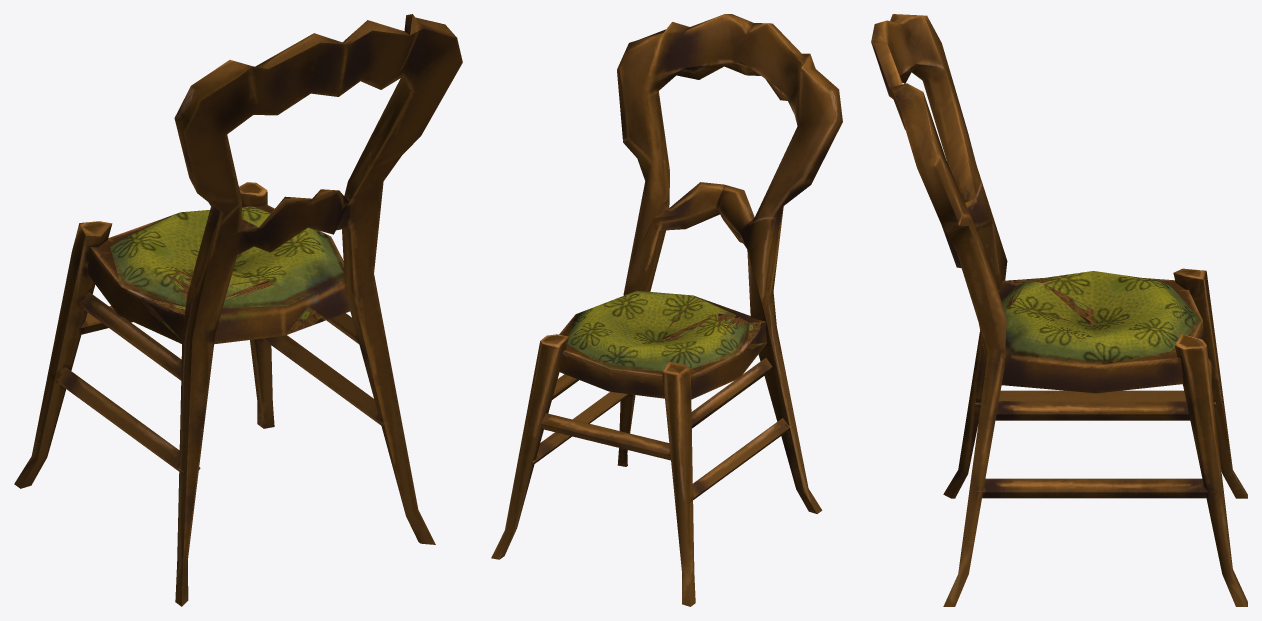
File: chaise_shatter.fbx
3 views of the same model, side by side, from view 1: azimuth 30°, elevation 25°; view 2: azimuth 150°, elevation 25°; view 3: azimuth 270°, elevation 25° (orthographic). The views are drawn at different scales.
Visible parts, largest first — view 1: Pieces_2_9, Pieces_1_8, Pieces_3_1, Pieces_1, Pieces_3_7, Pieces_2_7, Pieces_3_9, Pieces_3_3, Pieces_2_2, Pieces_3_5, Pieces_3_2, Pieces_1_6 (+5 smaller); view 2: Pieces_2_9, Pieces_3_7, Pieces_3_1, Pieces_2_7, Pieces_1, Pieces_1_8, Pieces_2_2, Pieces_2_8, Pieces_3_3, Pieces_3_5, Pieces_3_4, Pieces_3_2 (+4 smaller); view 3: Pieces_3_7, Pieces_2_9, Pieces_1_8, Pieces_1, Pieces_3_1, Pieces_2_7, Pieces_3_6, Pieces_3_9, Pieces_2_8, Pieces_3_5, Pieces_1_4, Pieces_2_2 (+6 smaller).
Part boxes in pixels (x1,y1,x2,y2): Pieces_2_9: [174, 14, 446, 252]; Pieces_1_8: [296, 23, 462, 355]; Pieces_3_1: [175, 224, 245, 606]; Pieces_1: [133, 268, 326, 472]; Pieces_3_7: [142, 204, 351, 319]; Pieces_2_7: [87, 226, 198, 321]; Pieces_3_9: [357, 336, 435, 544]; Pieces_3_3: [14, 348, 73, 488]; Pieces_2_2: [53, 221, 112, 348]; Pieces_3_5: [250, 338, 274, 428]; Pieces_3_2: [55, 367, 153, 431]; Pieces_1_6: [56, 273, 95, 360]; Pieces_2_9: [619, 14, 842, 265]; Pieces_3_7: [559, 291, 696, 391]; Pieces_3_1: [747, 222, 822, 513]; Pieces_2_7: [610, 327, 747, 399]; Pieces_1: [655, 296, 792, 459]; Pieces_1_8: [617, 24, 727, 295]; Pieces_2_2: [662, 361, 691, 487]; Pieces_2_8: [526, 334, 568, 437]; Pieces_3_3: [674, 474, 695, 606]; Pieces_3_5: [491, 438, 541, 559]; Pieces_3_4: [541, 413, 618, 443]; Pieces_3_2: [692, 437, 756, 499]; Pieces_3_7: [1001, 289, 1204, 393]; Pieces_2_9: [871, 14, 1006, 327]; Pieces_1_8: [881, 65, 1006, 433]; Pieces_1: [975, 274, 1102, 405]; Pieces_3_1: [943, 199, 1007, 498]; Pieces_2_7: [1069, 271, 1196, 322]; Pieces_3_6: [1043, 478, 1215, 498]; Pieces_3_9: [943, 430, 992, 606]; Pieces_2_8: [1175, 333, 1219, 451]; Pieces_3_5: [1202, 475, 1247, 606]; Pieces_1_4: [1182, 374, 1221, 486]; Pieces_2_2: [1173, 268, 1221, 386].
Size of the model in its own units: 22.59 by 44.25 by 29.12.
Materials: 2 (1 with a texture image).
